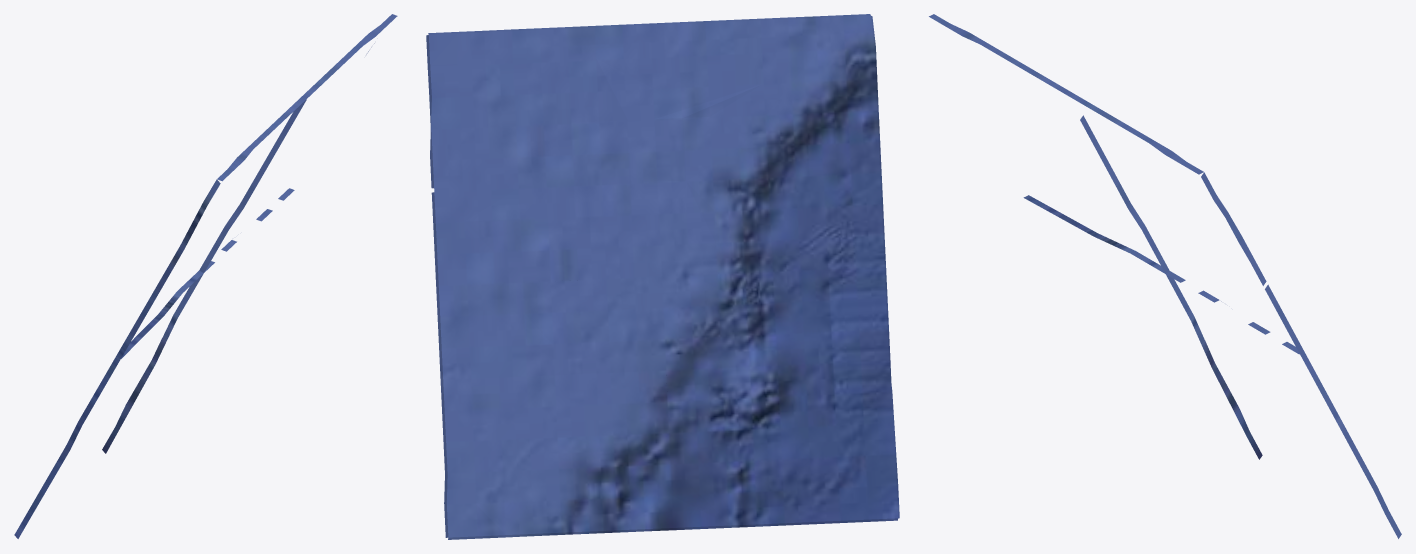
3 renders of one model, left to right at view 1: azimuth 30°, elevation 25°; view 2: azimuth 150°, elevation 25°; view 3: azimuth 270°, elevation 25°, orthographic. The views are drawn at different scales.
Size of the model in its own units: 156168 by 141332 by 141927.
1 material, 1 textured.
